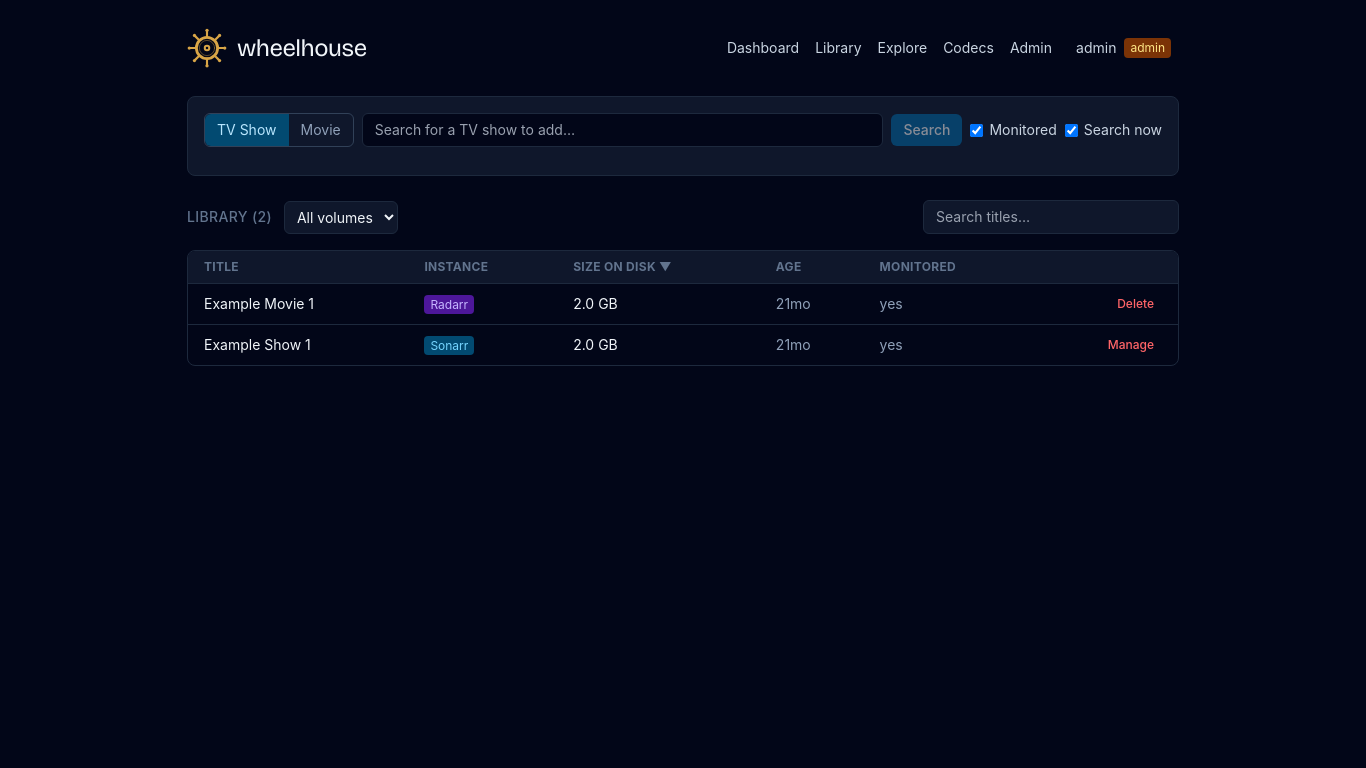
Test: deleting a movie › cancel closes the dialog and deletes nothing
Click the button "Delete" at (1136, 304), box left=1109, top=292, right=1162, bottom=316
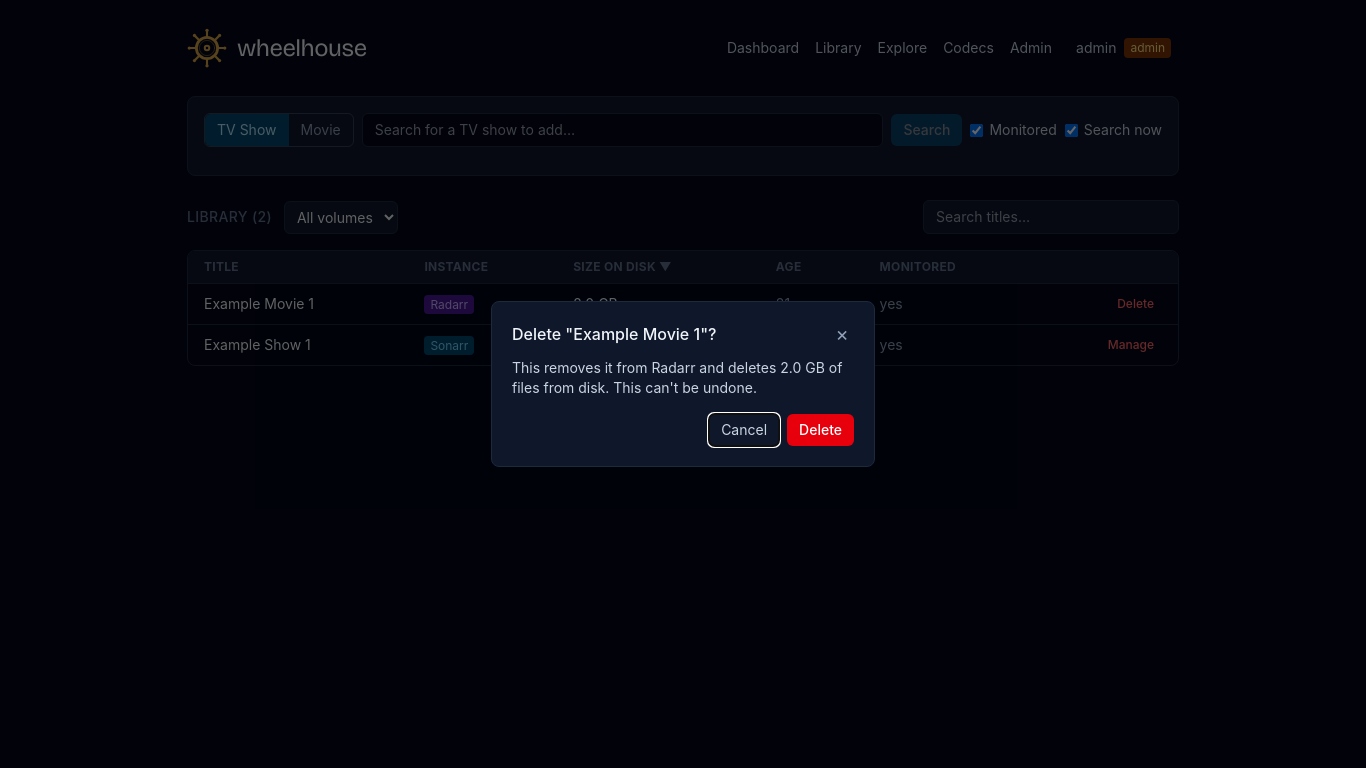
Click the button "Cancel" at (744, 430), box left=709, top=414, right=779, bottom=446
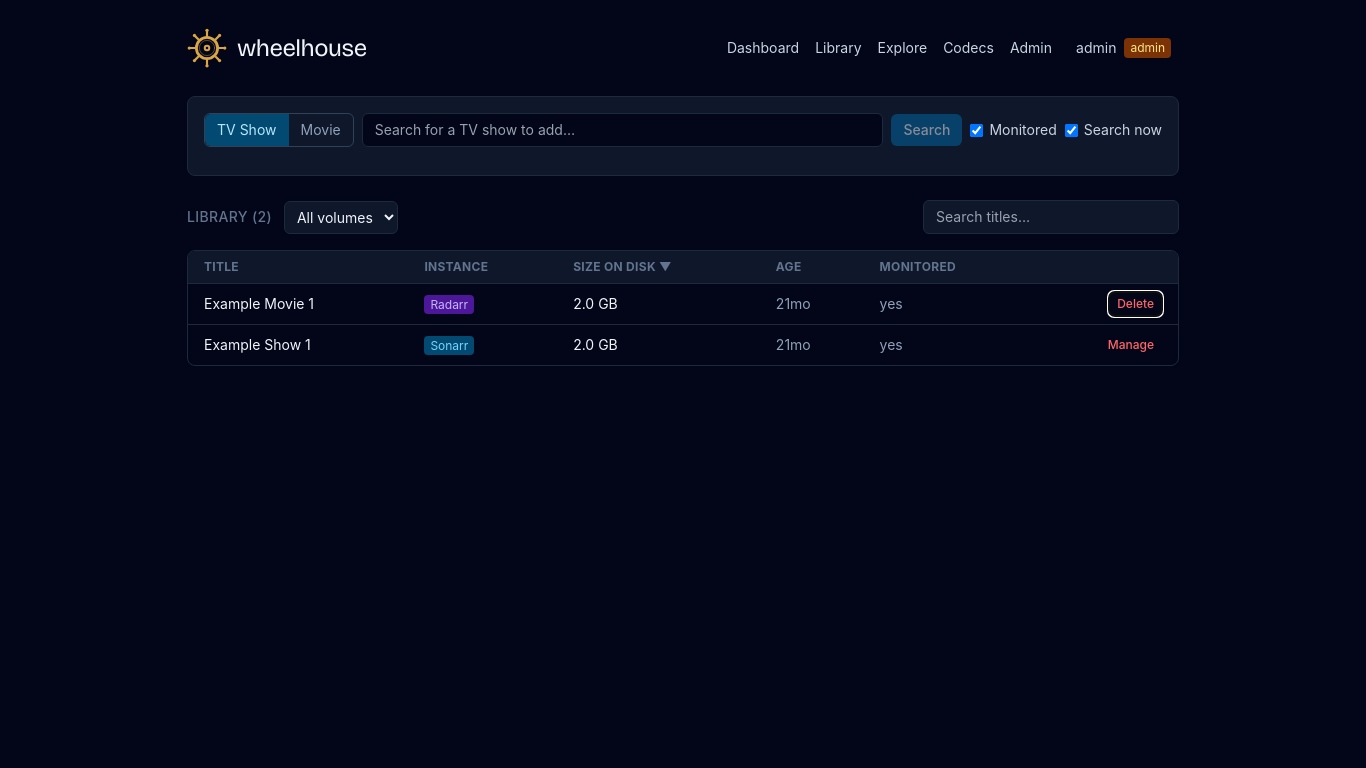
Expected: the button "Example Movie 1" is shown, left=204, top=294, right=314, bottom=314
Now the heading "Delete \"Example Movie 1\"?" is gone
